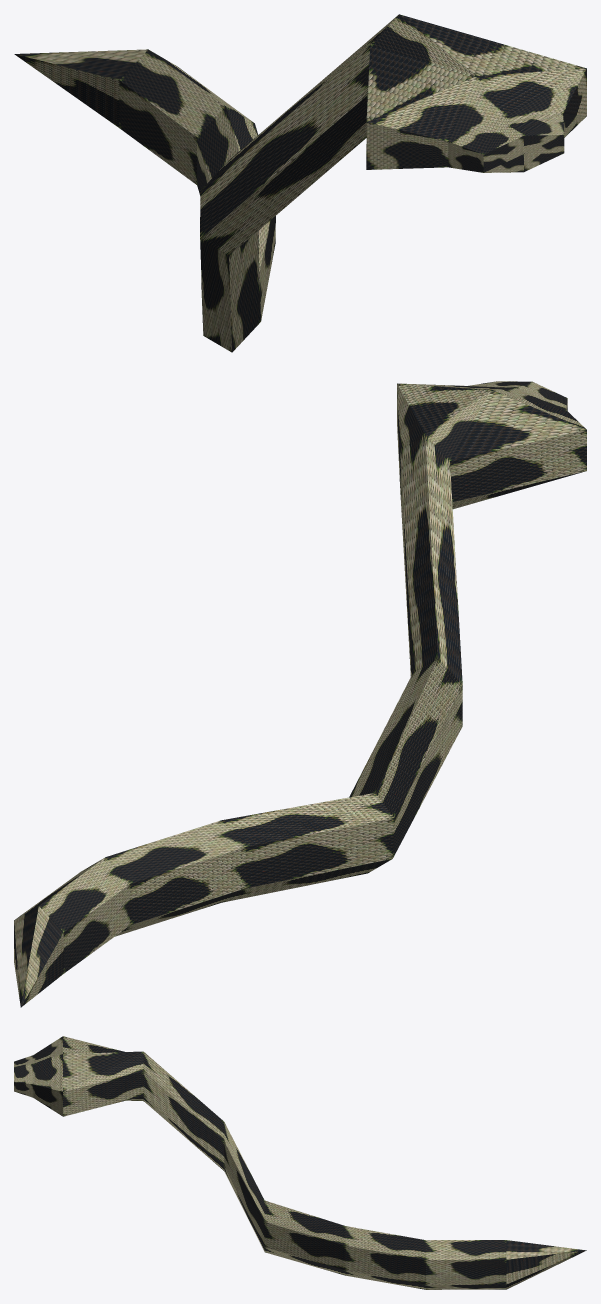
File: snake_lo.obj
The picture shows the model from 3 angles, top to bottom: view 1: azimuth 30°, elevation 25°; view 2: azimuth 150°, elevation 25°; view 3: azimuth 270°, elevation 25°; orthographic projection. The views are drawn at different scales.
Visible parts, largest first — view 1: Cylinder; view 2: Cylinder; view 3: Cylinder.
Boxes of the visible parts, left/top/right/bottom form: Cylinder: left=14, top=14, right=586, bottom=352; Cylinder: left=14, top=381, right=586, bottom=1007; Cylinder: left=14, top=1036, right=586, bottom=1289.
Size of the model in its own units: 2.27 by 3.59 by 8.73.
